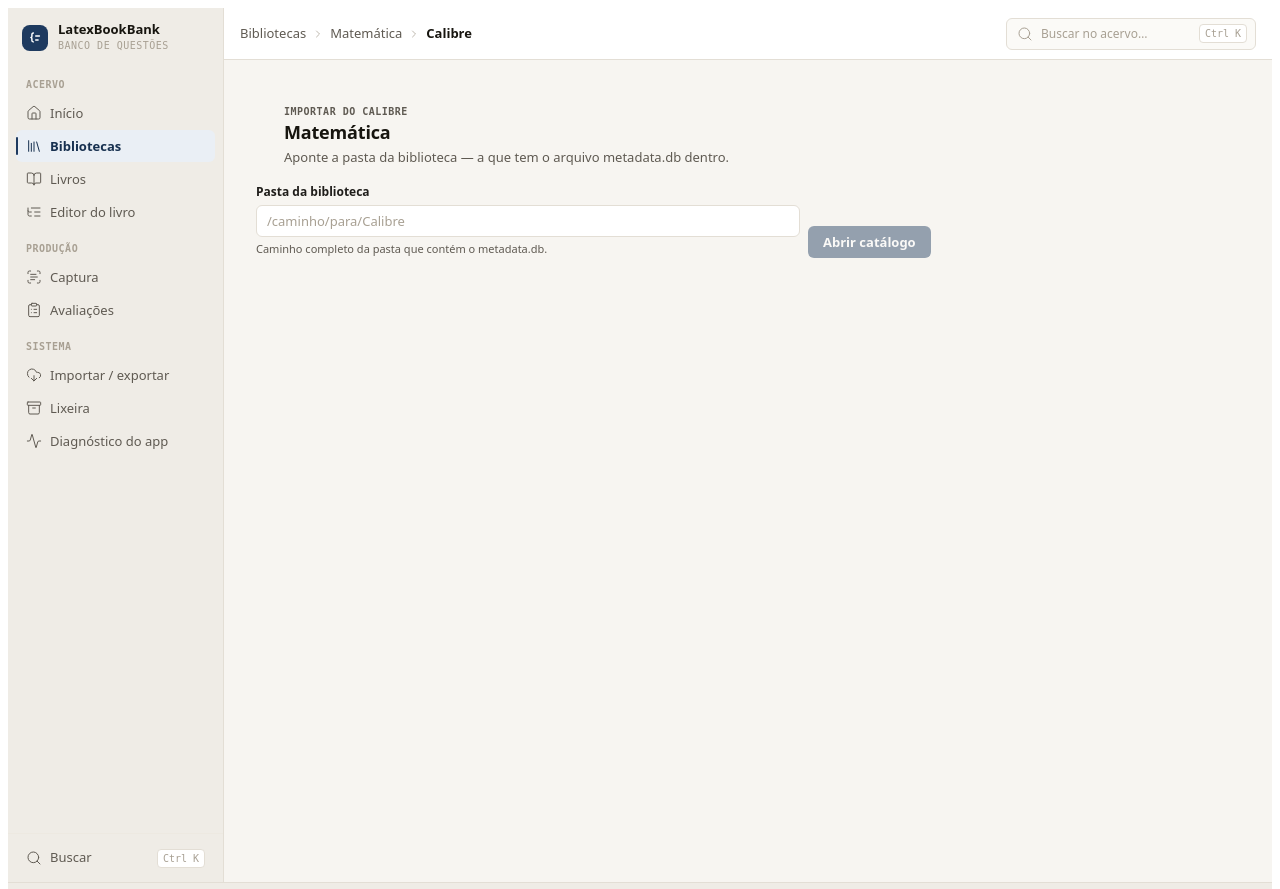
Test: seleção múltipla › dois livros marcados vão juntos para import-batch, na ordem do clique
Step 1. Type "/mnt/u/Calibre" into the field with placeholder "/caminho/para/Calibre" → (528, 221), box [256, 205, 800, 237]
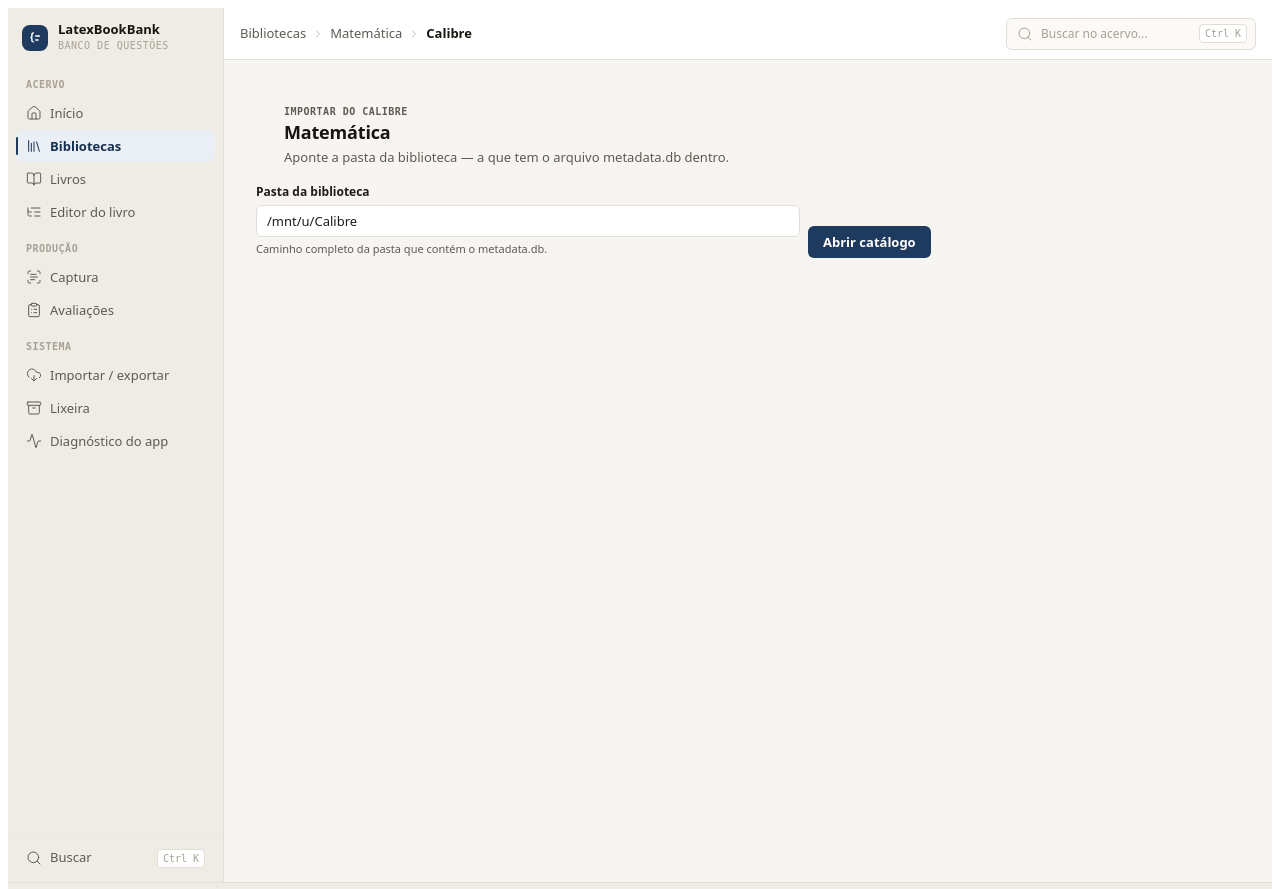
Step 2. Click the button "Abrir catálogo" → (869, 242), box [808, 226, 931, 258]
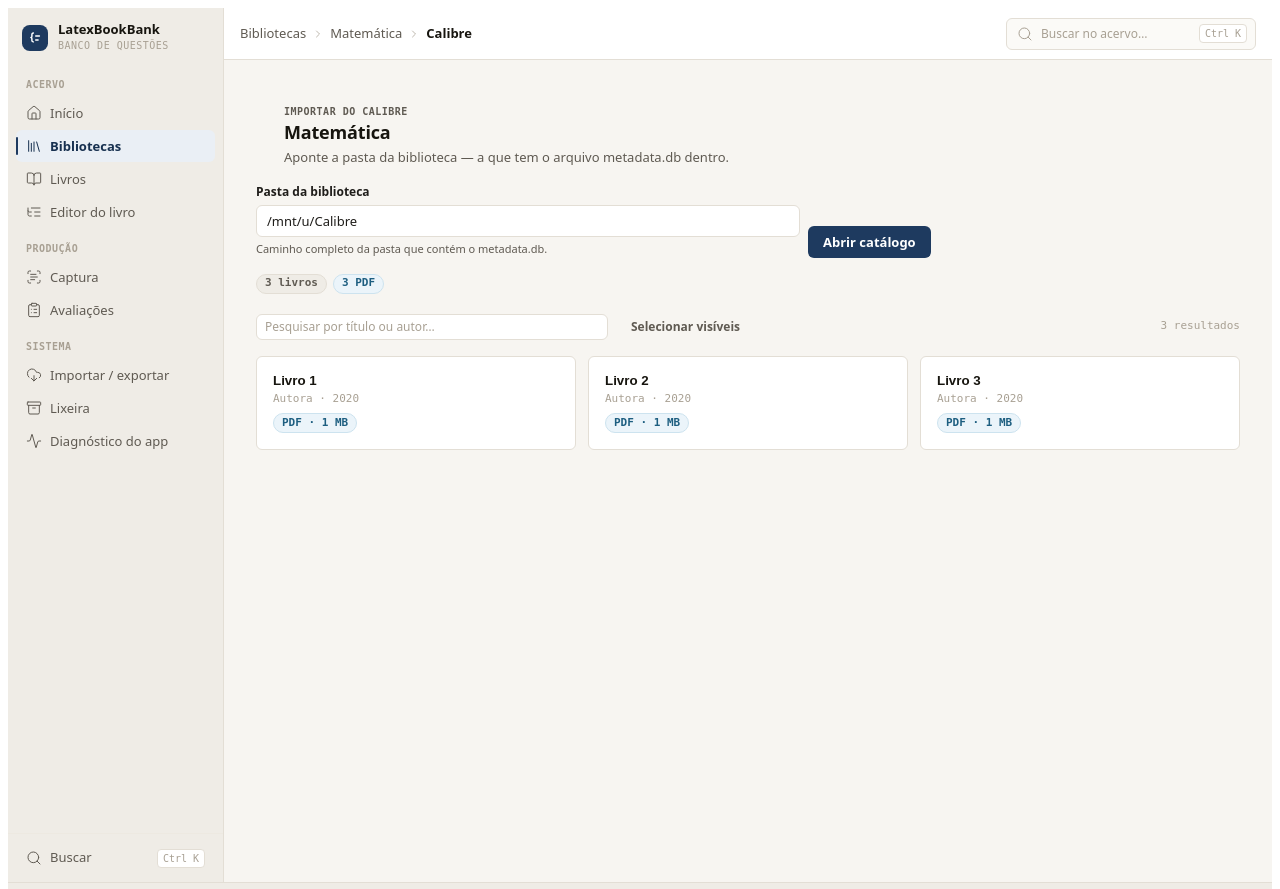
Check: the text "Livro 1" is shown, box [273, 372, 317, 388]
Step 3. Click the text "Livro 2" → (627, 380), box [605, 372, 649, 388]
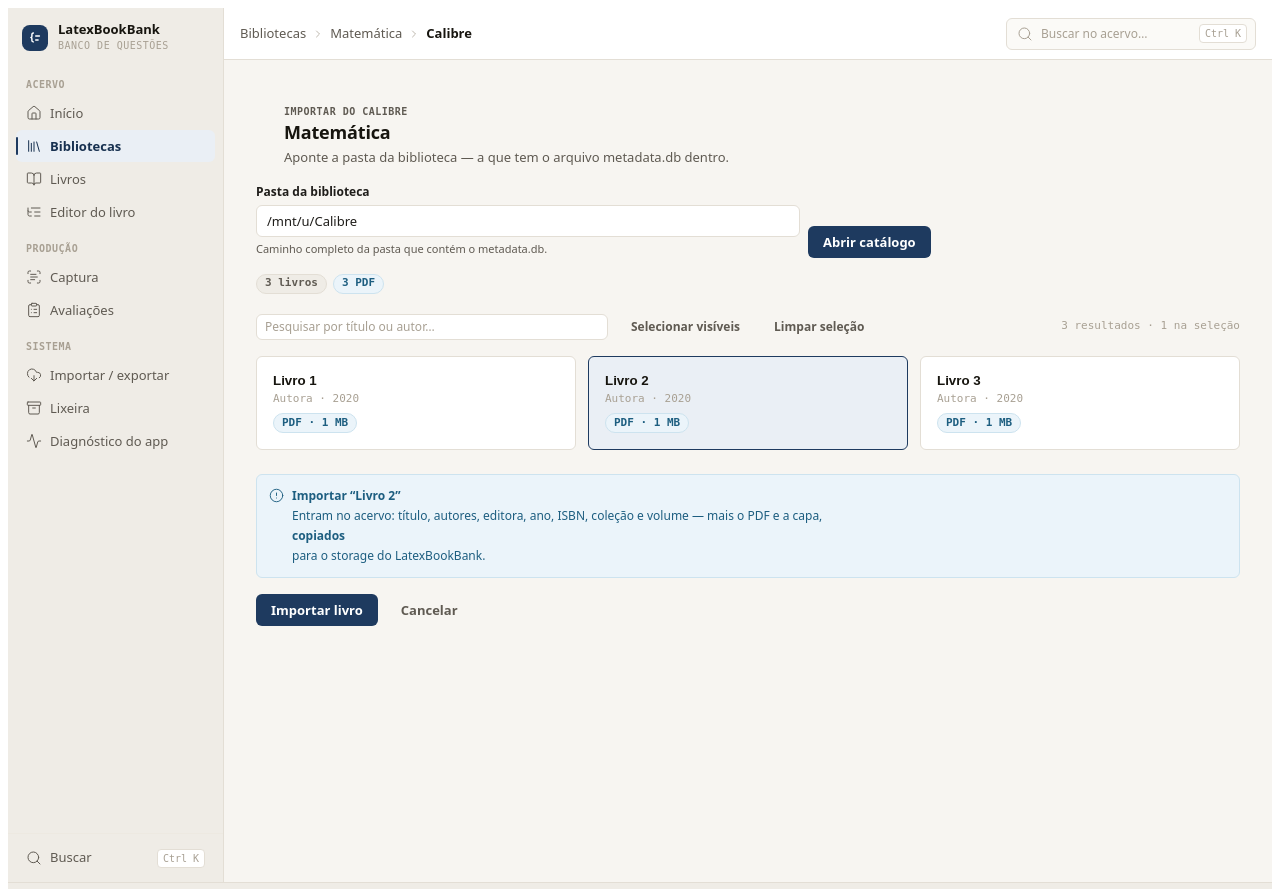
Step 4. Click the text "Livro 1" → (295, 380), box [273, 372, 317, 388]
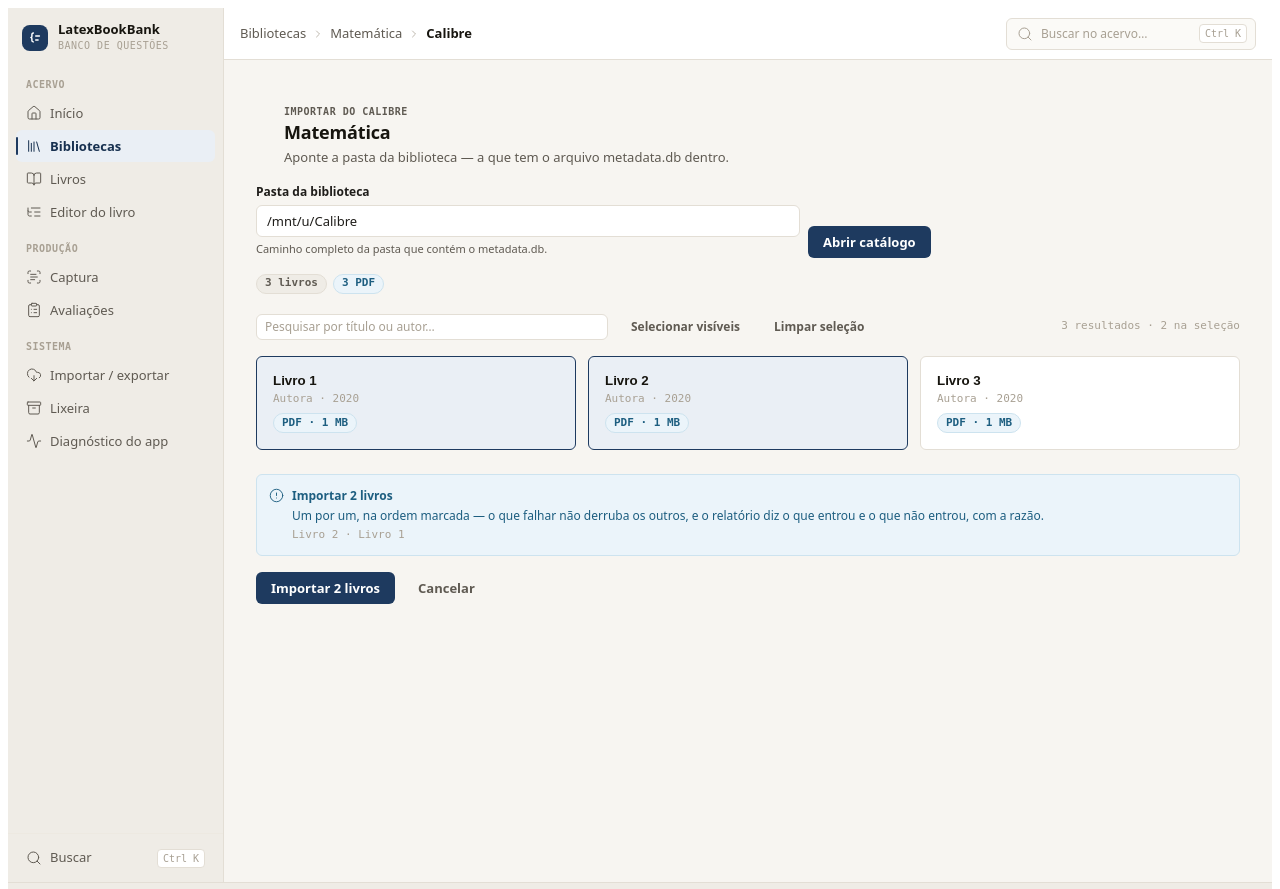
Step 5. Click the button "Importar 2 livros" → (326, 588), box [256, 572, 395, 604]
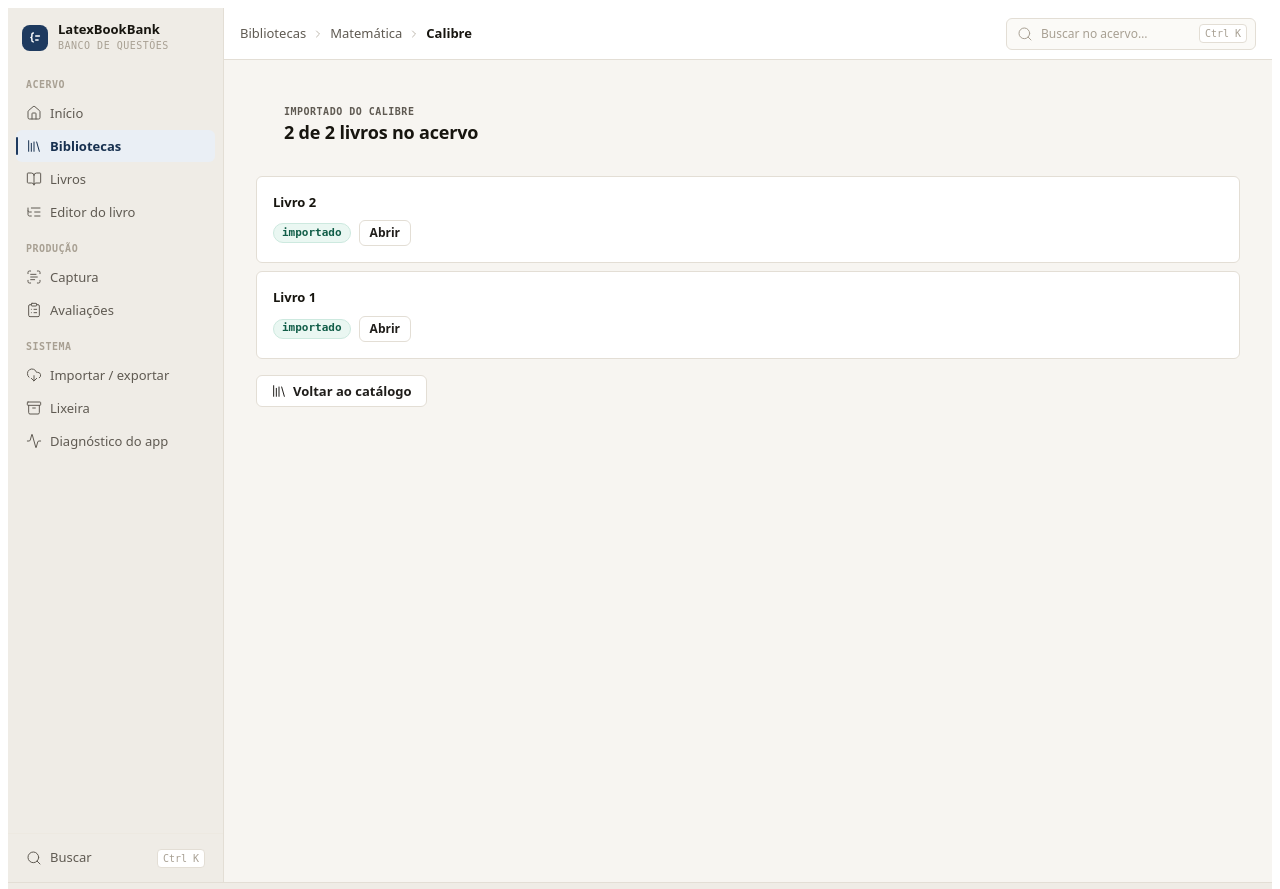
Check: the heading "2 de 2 livros no acervo" is shown, box [284, 121, 478, 144]
